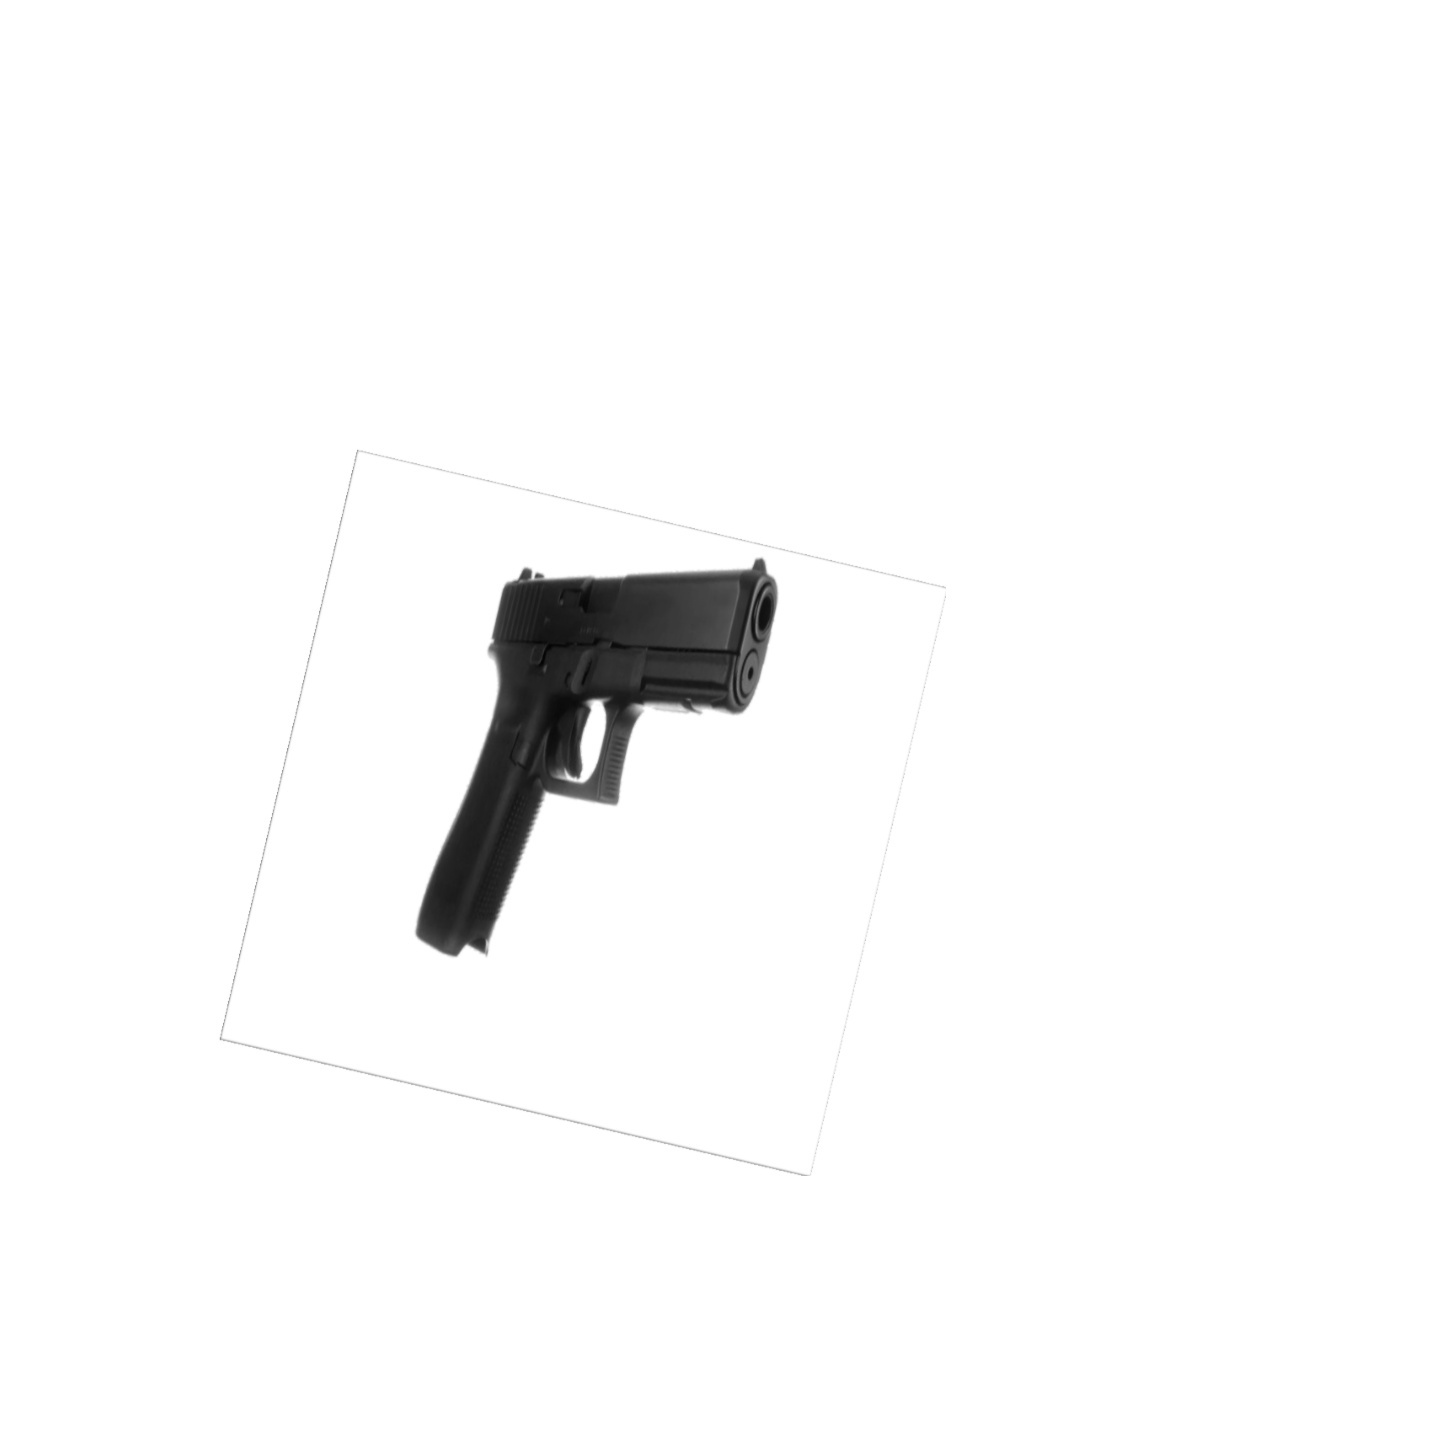gun: (410, 550, 787, 977)
